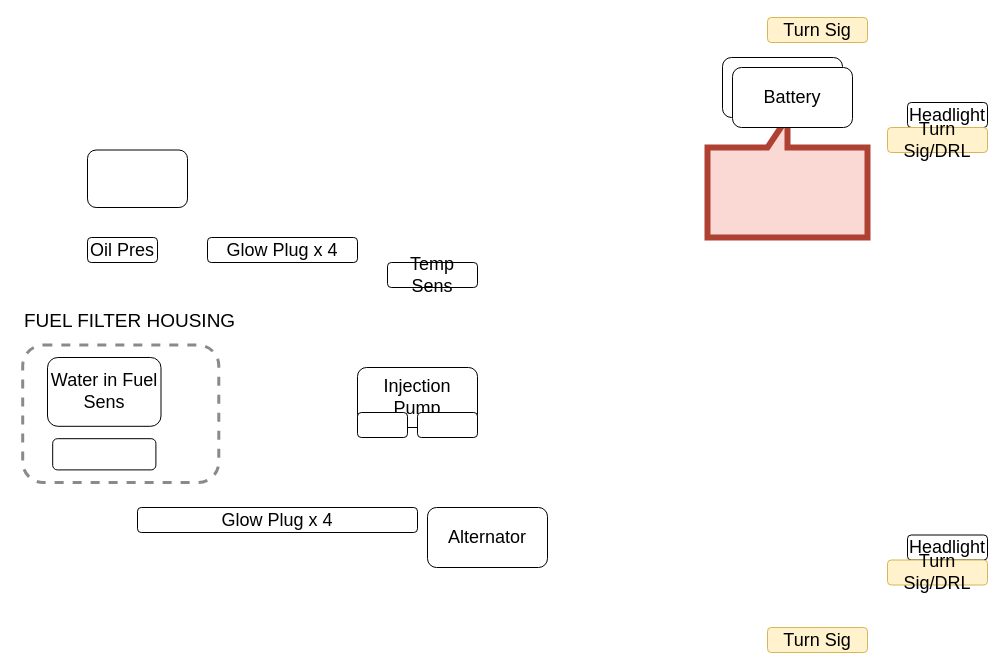
This 1005x670 diagram has some shape labels left out. Here are the shapes that lost their labels. From the top down, the centre of each, then its label:
At (x=137, y=178): "Glow Plug Relay".
At (x=787, y=177): "One under body One in engine bay At replacement time Upgrade to LiFePo4".
At (x=382, y=425): "On".
At (x=447, y=425): "Hi Idle".
At (x=104, y=454): "Fuel Heater".
